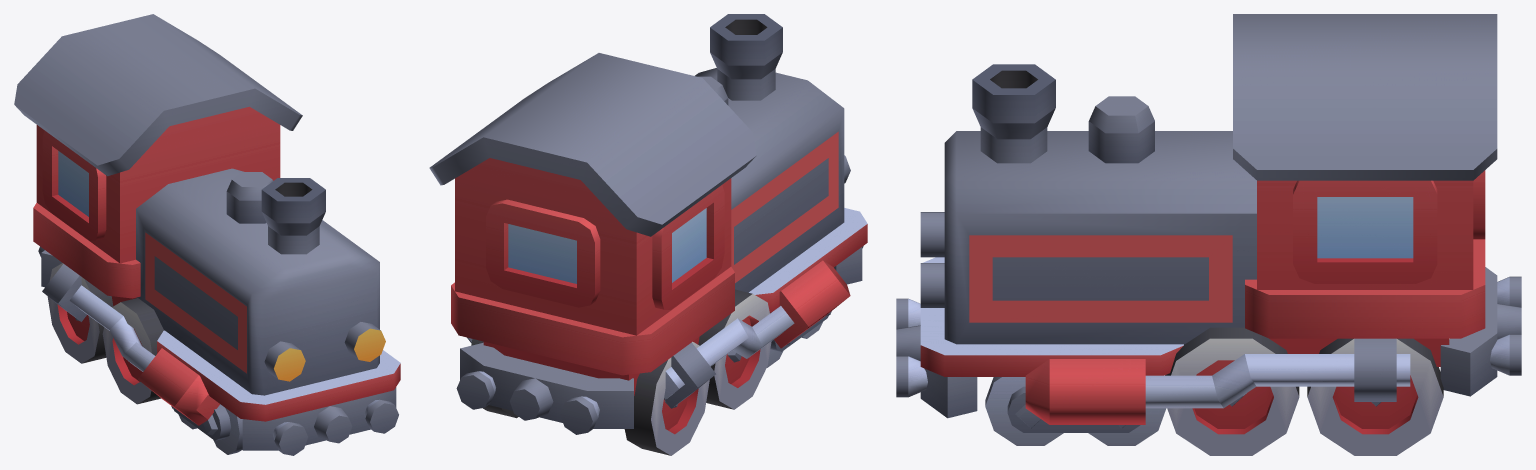
Rendered from kenney-train-train-locomotive-b.glb.
3 renders of one model, left to right at view 1: azimuth 30°, elevation 25°; view 2: azimuth 150°, elevation 25°; view 3: azimuth 270°, elevation 25°, orthographic. The views are drawn at different scales.
Parts seen in each view (by area): view 1: train-locomotive-b, wheel (×2), wheels-front; view 2: train-locomotive-b, wheel (×2), wheels-front; view 3: train-locomotive-b, wheel (×2), wheels-front.
Part boxes in pixels (x1=…): train-locomotive-b: x1=14, y1=14, x2=400, y2=455; wheel (×2): x1=47, y1=263, x2=164, y2=404; wheels-front: x1=171, y1=404, x2=242, y2=454; train-locomotive-b: x1=429, y1=14, x2=867, y2=434; wheel (×2): x1=624, y1=289, x2=771, y2=455; wheels-front: x1=767, y1=311, x2=831, y2=367; train-locomotive-b: x1=896, y1=14, x2=1521, y2=424; wheel (×2): x1=1165, y1=327, x2=1443, y2=455; wheels-front: x1=985, y1=377, x2=1166, y2=445.
Size of the model in its own units: 1.32 by 1.66 by 2.6.
1 material, 1 textured.
